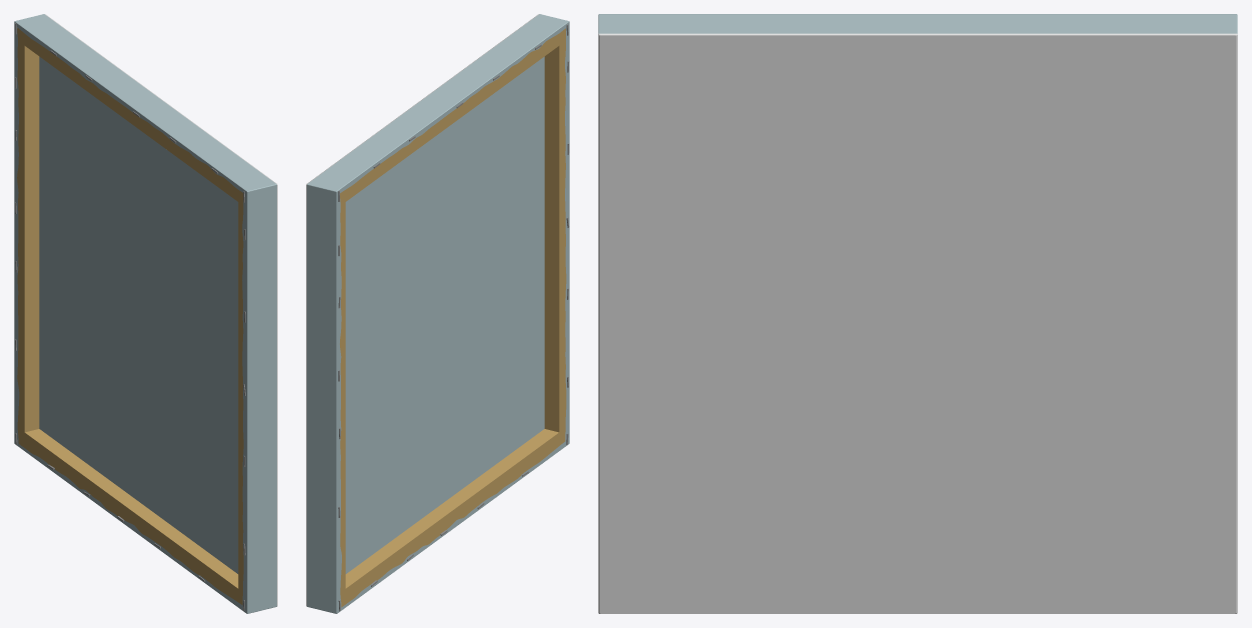
File: squareCanvasV1.gltf
The picture shows the model from 3 angles, left to right: view 1: azimuth 30°, elevation 25°; view 2: azimuth 150°, elevation 25°; view 3: azimuth 270°, elevation 25°; orthographic projection. The views are drawn at different scales.
Visible parts, largest first — view 1: 16by9canvas; view 2: 16by9canvas; view 3: 16by9canvas.
Part boxes in pixels (x1=…): 16by9canvas: x1=14, y1=14, x2=277, y2=613; 16by9canvas: x1=306, y1=14, x2=569, y2=613; 16by9canvas: x1=598, y1=14, x2=1237, y2=613.
Bounding box in the file's own units: 0.1579 × 2 × 2.
